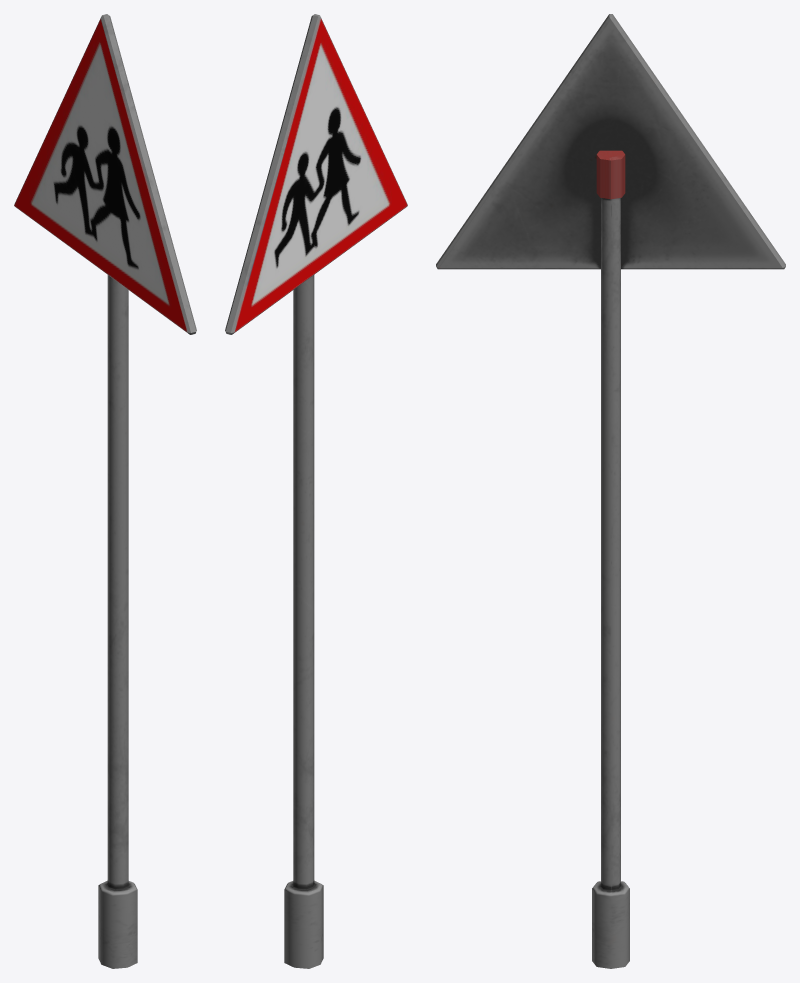
Rendered from SM_Sign5.fbx.
3 renders of one model, left to right at view 1: azimuth 30°, elevation 25°; view 2: azimuth 150°, elevation 25°; view 3: azimuth 270°, elevation 25°, orthographic.
Visible parts, largest first — view 1: SM_Sign5_LOD0; view 2: SM_Sign5_LOD0; view 3: SM_Sign5_LOD0.
Part boxes in pixels (x1,y1,x2,y2): SM_Sign5_LOD0: [14, 14, 196, 968]; SM_Sign5_LOD0: [225, 14, 407, 968]; SM_Sign5_LOD0: [436, 14, 785, 968].
Bounding box in the file's own units: 11.34 × 102 × 303.
Materials: 1 (1 with a texture image).
